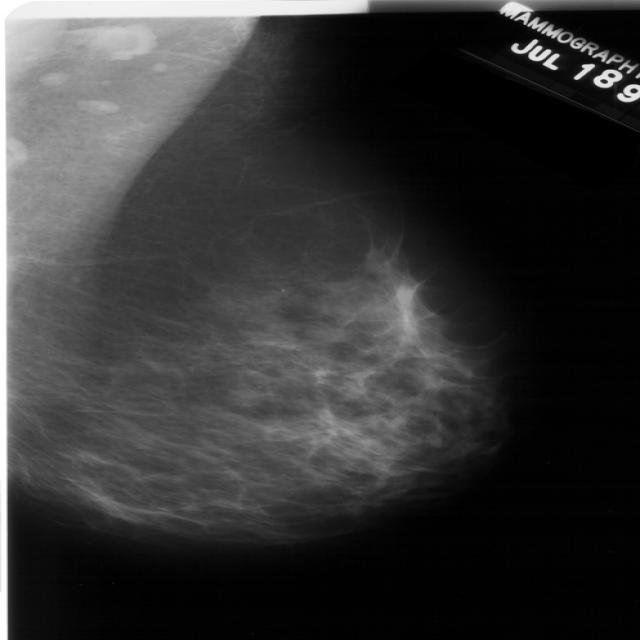tumour: (223, 382, 264, 408)
